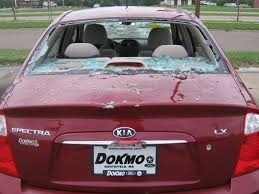Broken-glass: (25, 21, 223, 73)
